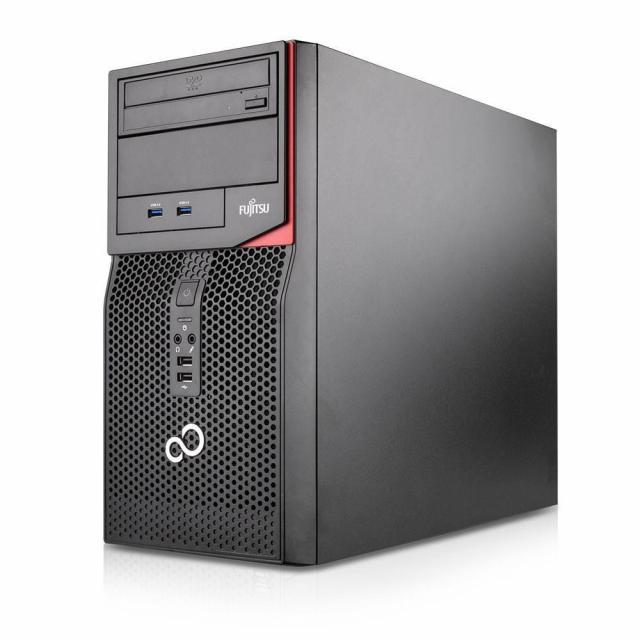Desktop-PC: (81, 41, 596, 574)
